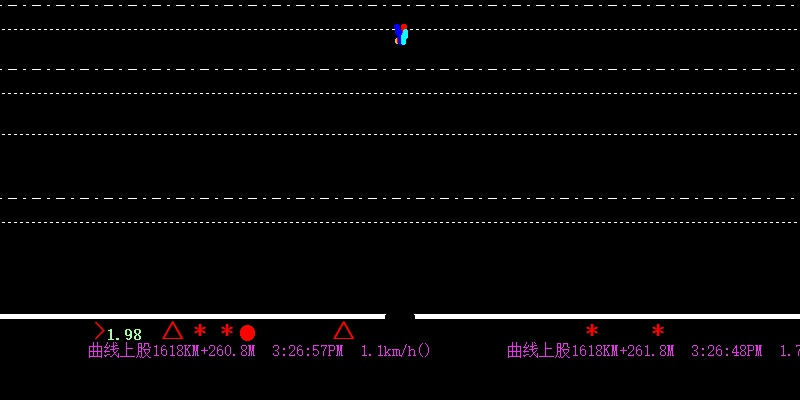circle: (239, 321, 259, 344)
face_2: (393, 16, 408, 45)
star: (216, 322, 234, 340), (192, 320, 208, 340), (582, 321, 600, 338), (648, 321, 666, 338)
